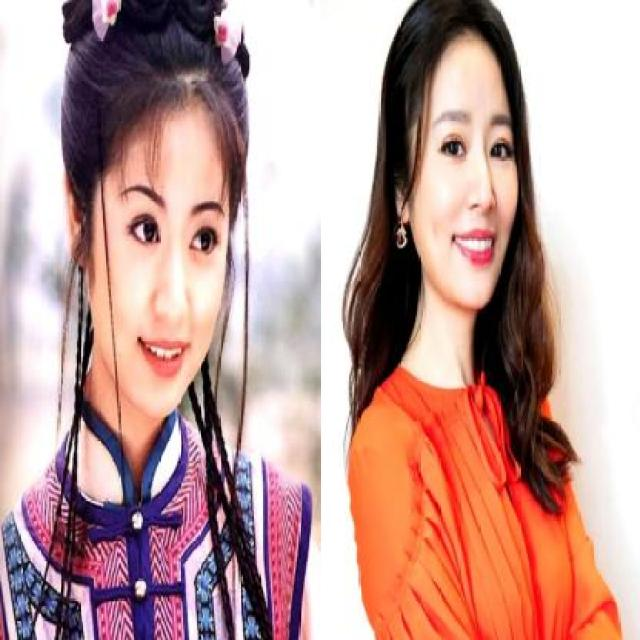sem_oculos: (35, 163, 249, 267), (393, 108, 534, 168)
